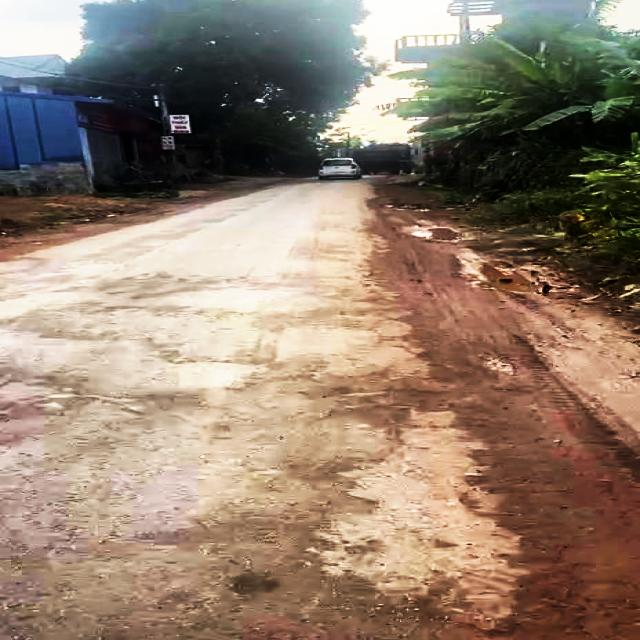pothole: (461, 257, 546, 296), (396, 222, 466, 242)
